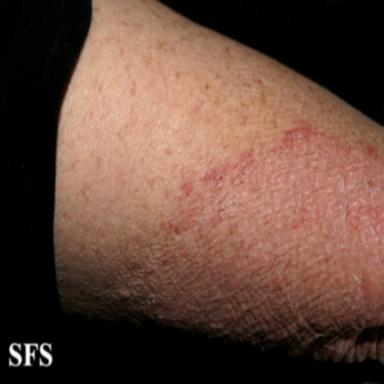Tinea-Corporis: (123, 122, 384, 328)
